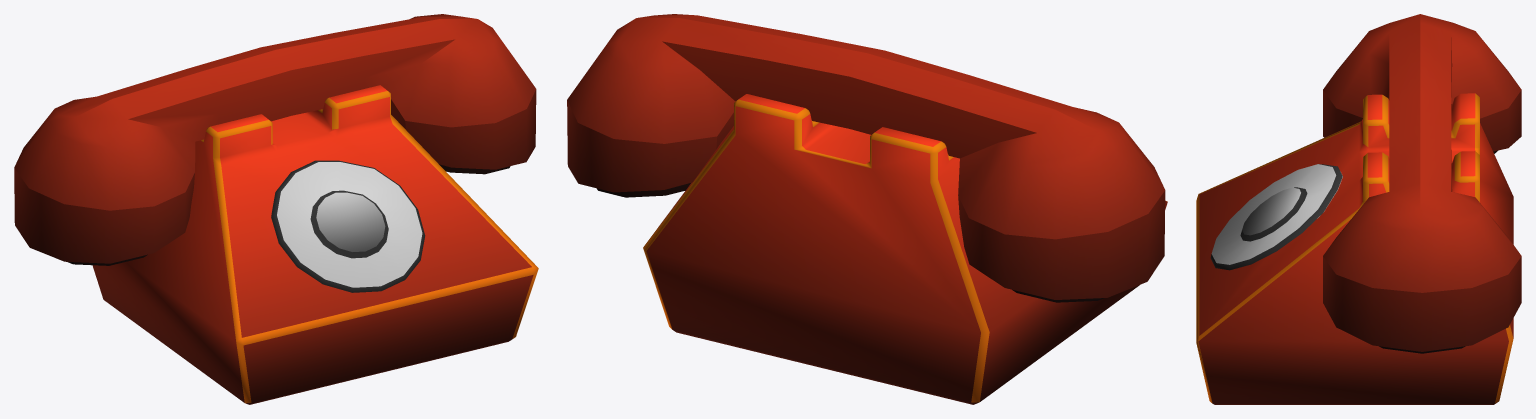
The model's file is Phone.glb.
3 views of the same model, side by side, from view 1: azimuth 30°, elevation 25°; view 2: azimuth 150°, elevation 25°; view 3: azimuth 270°, elevation 25° (orthographic). The views are drawn at different scales.
Parts seen in each view (by area): view 1: Phone Base, Phone Handle; view 2: Phone Base, Phone Handle; view 3: Phone Base, Phone Handle.
Part boxes in pixels (x1,y1,x2,y2): Phone Base: [92, 85, 538, 404]; Phone Handle: [14, 14, 536, 265]; Phone Base: [643, 94, 1167, 404]; Phone Handle: [567, 14, 1165, 302]; Phone Base: [1196, 93, 1513, 404]; Phone Handle: [1323, 14, 1521, 353].
Size of the model in its own units: 1.63 by 0.7855 by 0.9341.
1 material, 1 textured.
